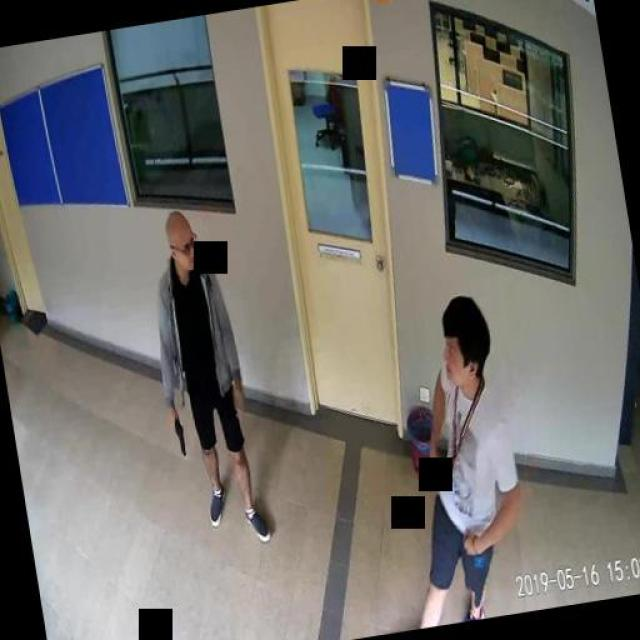gun: (168, 413, 186, 455)
